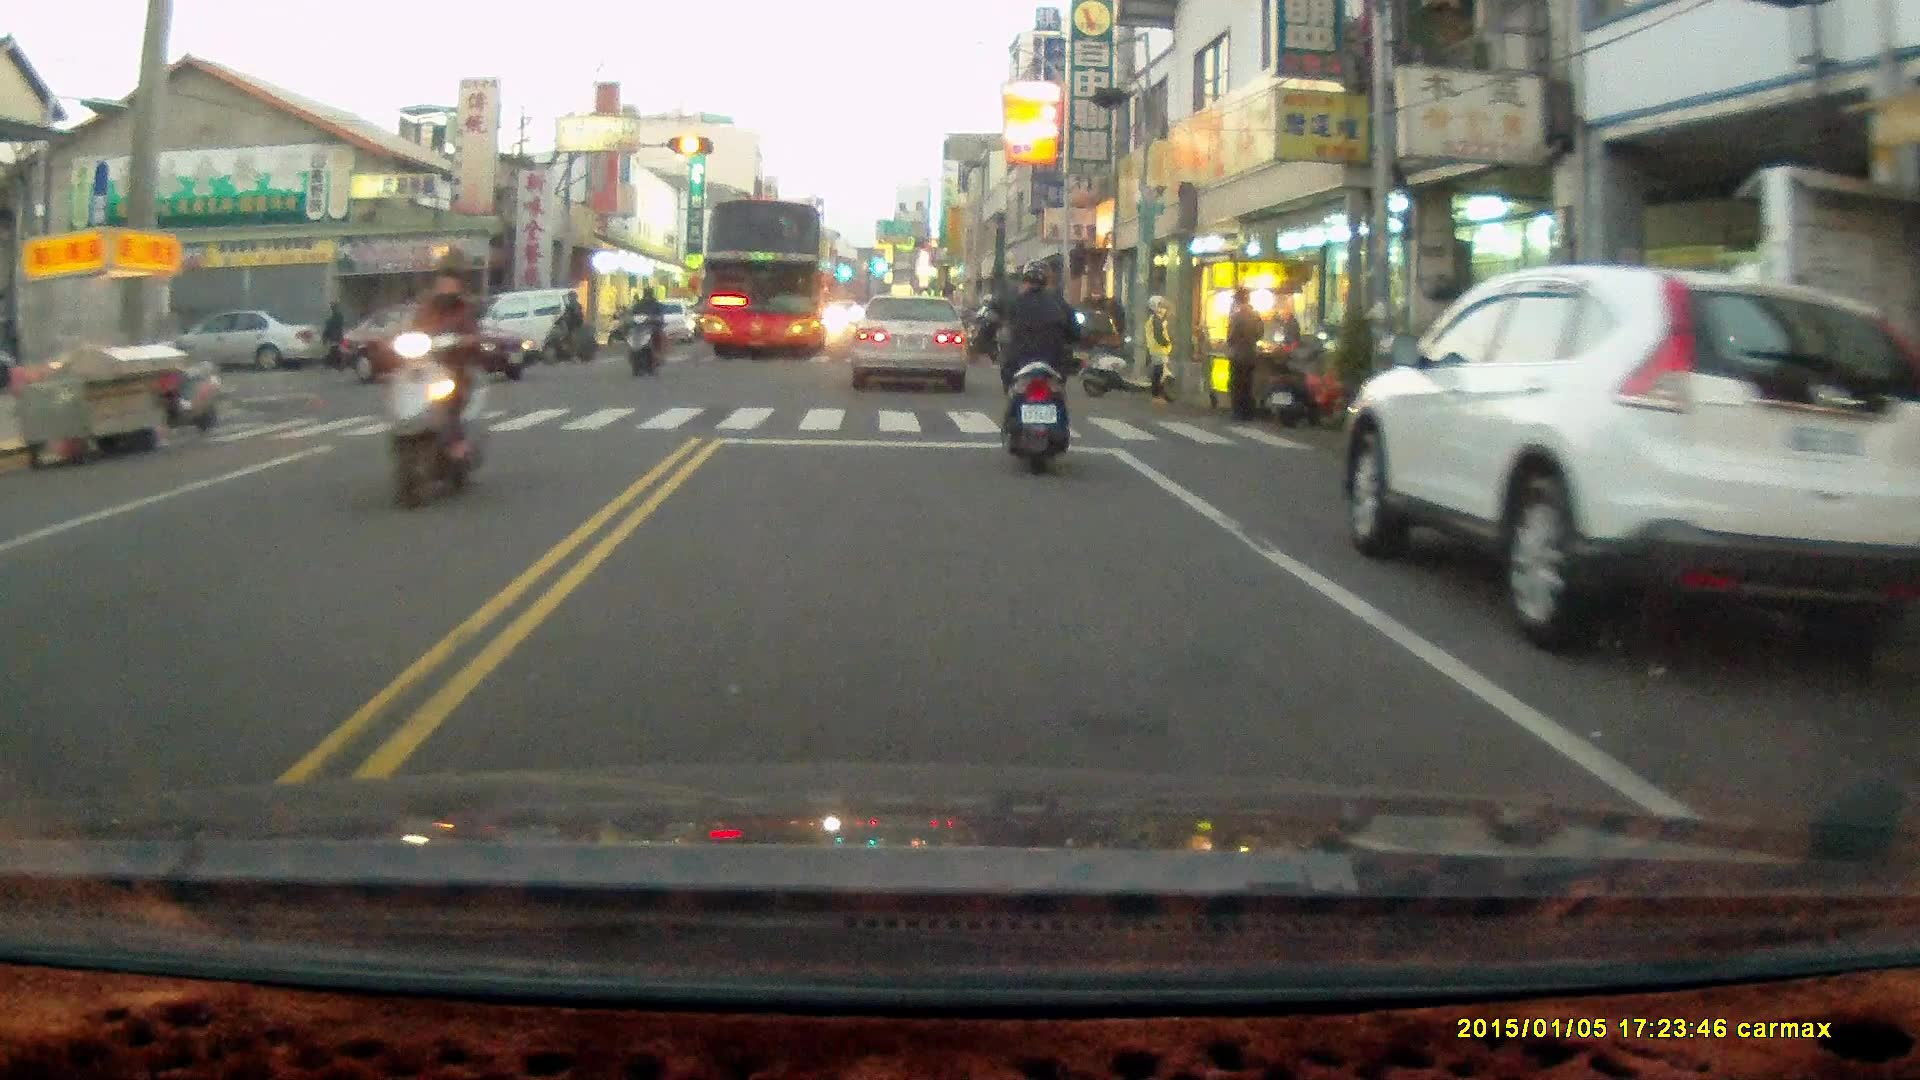pedestrian: (1224, 285, 1263, 426), (1139, 289, 1175, 405), (319, 298, 343, 369)
rider: (362, 244, 493, 511), (985, 256, 1085, 471), (538, 286, 598, 364), (962, 286, 1015, 364), (623, 283, 667, 375)
vehicle: (1341, 258, 1903, 653), (694, 198, 832, 364), (343, 299, 531, 382), (446, 285, 591, 373), (850, 291, 971, 389), (155, 311, 313, 374)
